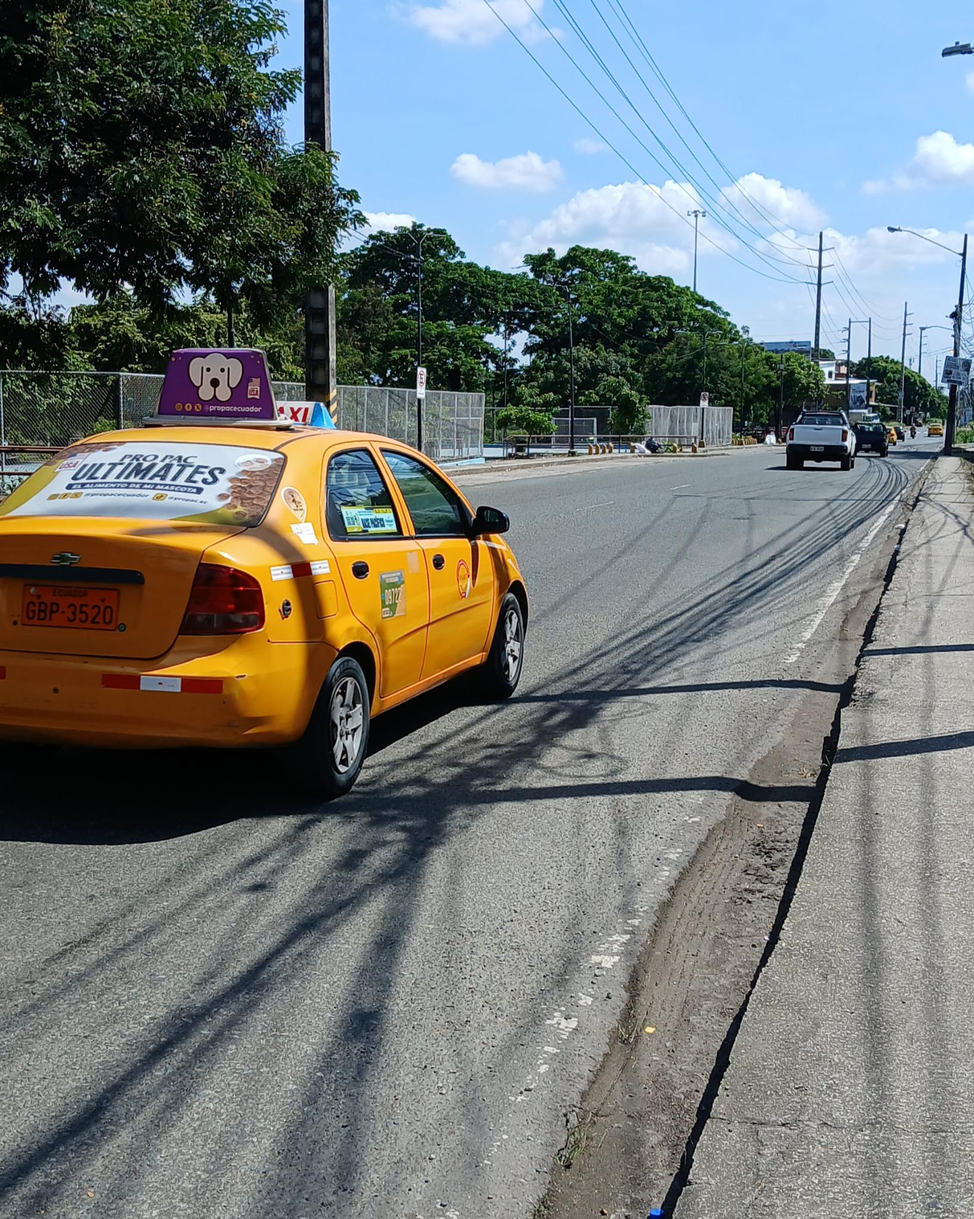license_plate: (19, 584, 121, 630), (810, 446, 824, 451)
